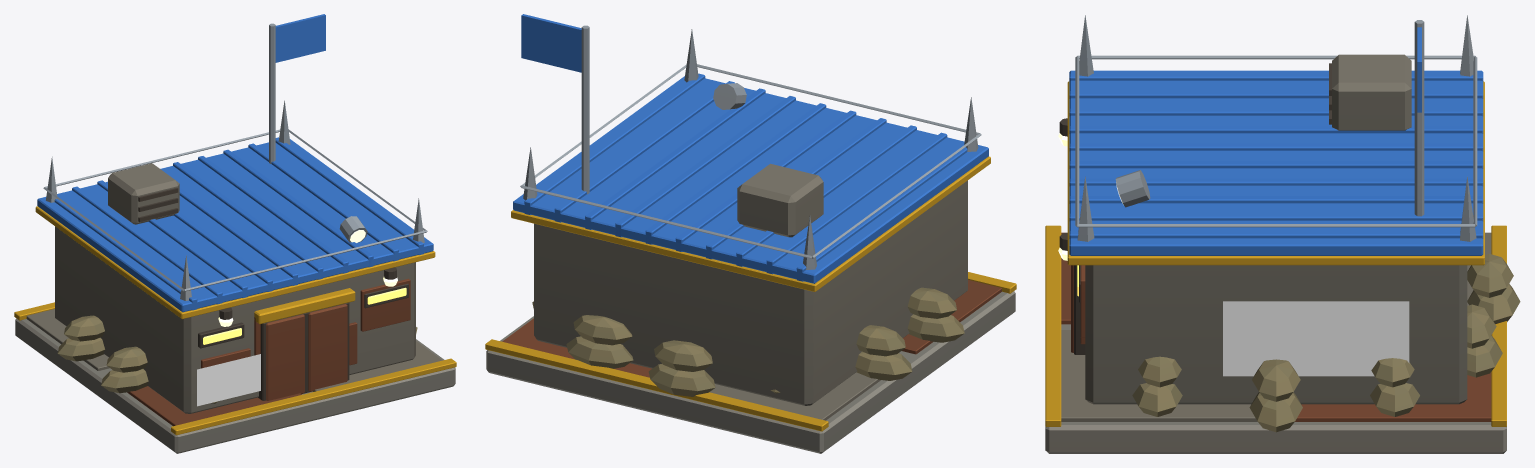
The model's file is caserne.glb.
The picture shows the model from 3 angles, left to right: view 1: azimuth 30°, elevation 25°; view 2: azimuth 150°, elevation 25°; view 3: azimuth 270°, elevation 25°; orthographic projection. The views are drawn at different scales.
Visible parts, largest first — view 1: caserne, tag_0; view 2: caserne; view 3: caserne, tag_1.
Boxes of the visible parts, <box> form: caserne: <box>14,14,456,453</box>; tag_0: <box>197,354,260,406</box>; caserne: <box>485,14,1016,453</box>; caserne: <box>1045,15,1520,453</box>; tag_1: <box>1223,301,1409,376</box>.
Size of the model in its own units: 3.28 by 2.75 by 2.98.
